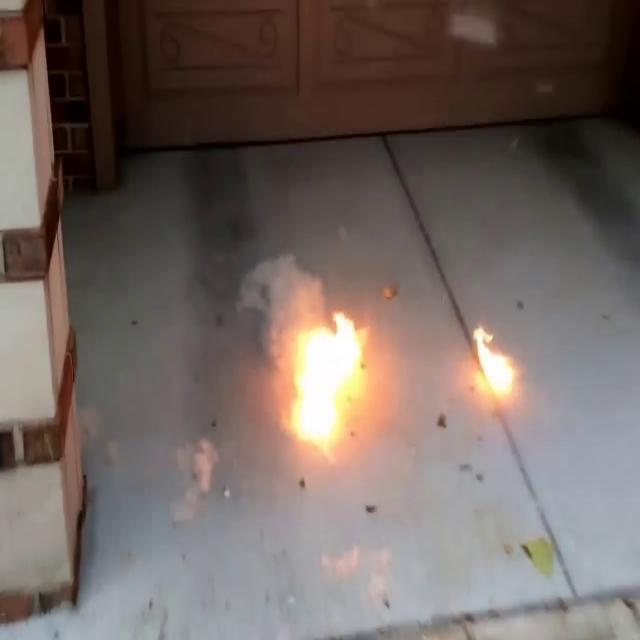Fire: (280, 302, 373, 450), (468, 321, 518, 406)
